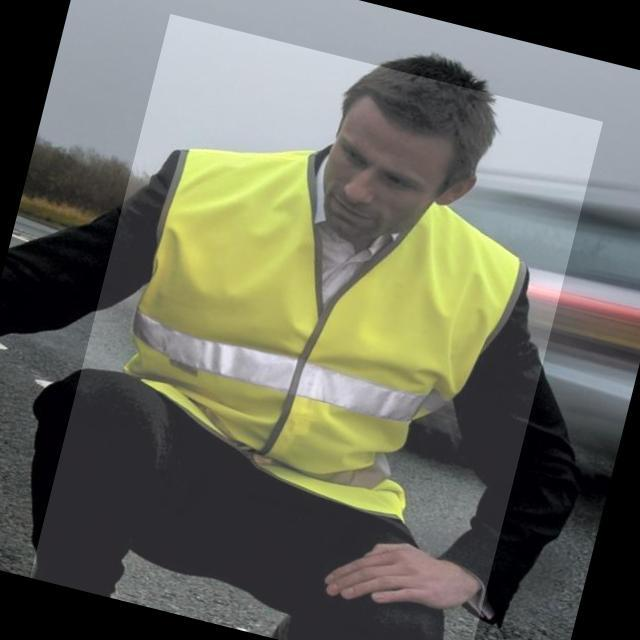Person: (105, 47, 560, 623), (182, 167, 232, 235)
Safety Vest: (86, 121, 544, 548)
bare-arms: (348, 525, 478, 617)
no-helmet: (328, 55, 518, 133)
